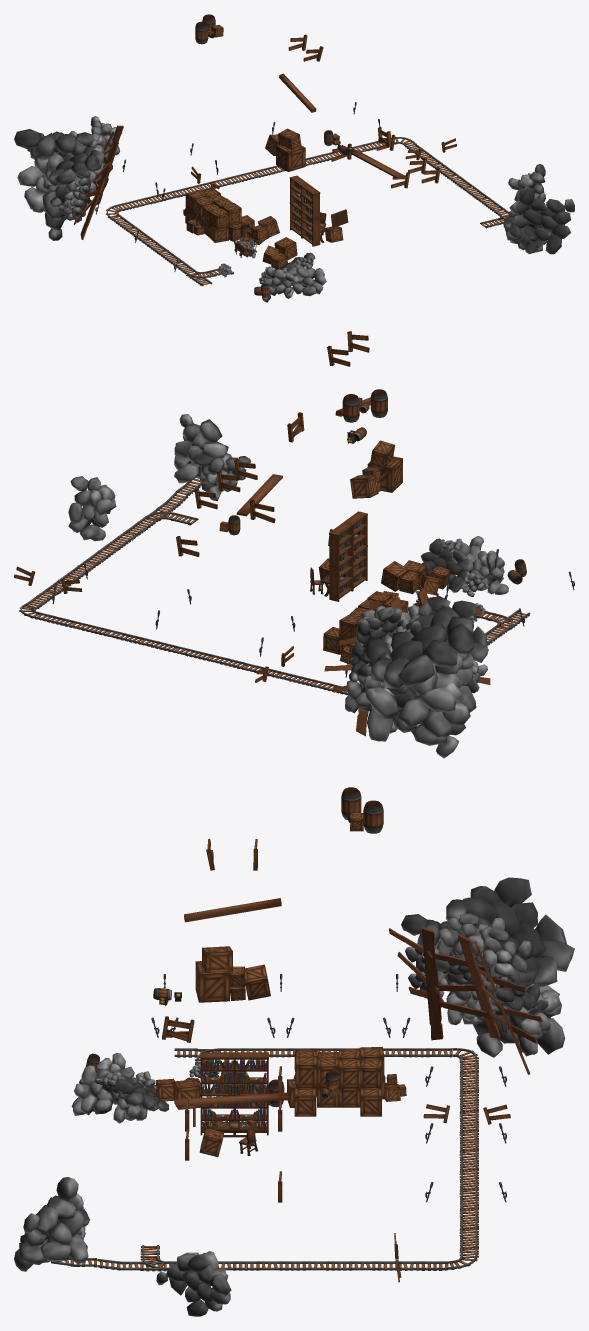
The model's file is Third Instance Props.FBX.
The picture shows the model from 3 angles, top to bottom: view 1: azimuth 30°, elevation 25°; view 2: azimuth 150°, elevation 25°; view 3: azimuth 270°, elevation 25°; orthographic projection. The views are drawn at different scales.
Visible parts, largest first — view 1: StonePile, Box, Rail_Broken, Wooden_Fence_Broken, Book_Shelf, Wooden_Broken_Plate, Wooden_Barrel, Wooden_Plate, Torch; view 2: StonePile, Rail_Broken, Box, Wooden_Fence_Broken, Book_Shelf, Wooden_Barrel, Wooden_Broken_Plate, Wooden_Plate; view 3: StonePile, Box, Rail_Broken, Wooden_Broken_Plate, Book_Shelf, Wooden_Fence_Broken, Wooden_Barrel, Wooden_Plate, Torch.
Boxes of the visible parts, left/top/right/bottom form: StonePile: left=14, top=116, right=574, bottom=302; Box: left=183, top=25, right=343, bottom=269; Rail_Broken: left=106, top=137, right=509, bottom=286; Wooden_Fence_Broken: left=191, top=34, right=456, bottom=194; Book_Shelf: left=289, top=175, right=320, bottom=246; Wooden_Broken_Plate: left=73, top=125, right=123, bottom=239; Wooden_Barrel: left=195, top=14, right=350, bottom=297; Wooden_Plate: left=279, top=73, right=403, bottom=178; Torch: left=95, top=102, right=380, bottom=271; StonePile: left=68, top=414, right=508, bottom=758; Rail_Broken: left=19, top=477, right=530, bottom=695; Box: left=219, top=397, right=450, bottom=664; Wooden_Fence_Broken: left=14, top=331, right=369, bottom=682; Book_Shelf: left=329, top=511, right=367, bottom=601; Wooden_Barrel: left=228, top=389, right=526, bottom=584; Wooden_Broken_Plate: left=324, top=587, right=490, bottom=736; Wooden_Plate: left=236, top=397, right=370, bottom=516; StonePile: left=14, top=877, right=574, bottom=1316; Box: left=156, top=813, right=406, bottom=1156; Rail_Broken: left=51, top=1048, right=478, bottom=1271; Wooden_Broken_Plate: left=389, top=926, right=543, bottom=1074; Book_Shelf: left=200, top=1052, right=268, bottom=1135; Wooden_Fence_Broken: left=162, top=839, right=510, bottom=1282; Wooden_Barrel: left=86, top=787, right=383, bottom=1107; Wooden_Plate: left=174, top=898, right=289, bottom=1106; Torch: left=151, top=974, right=506, bottom=1202.
Bounding box in the file's own units: 31.13 × 16.09 × 24.2.
